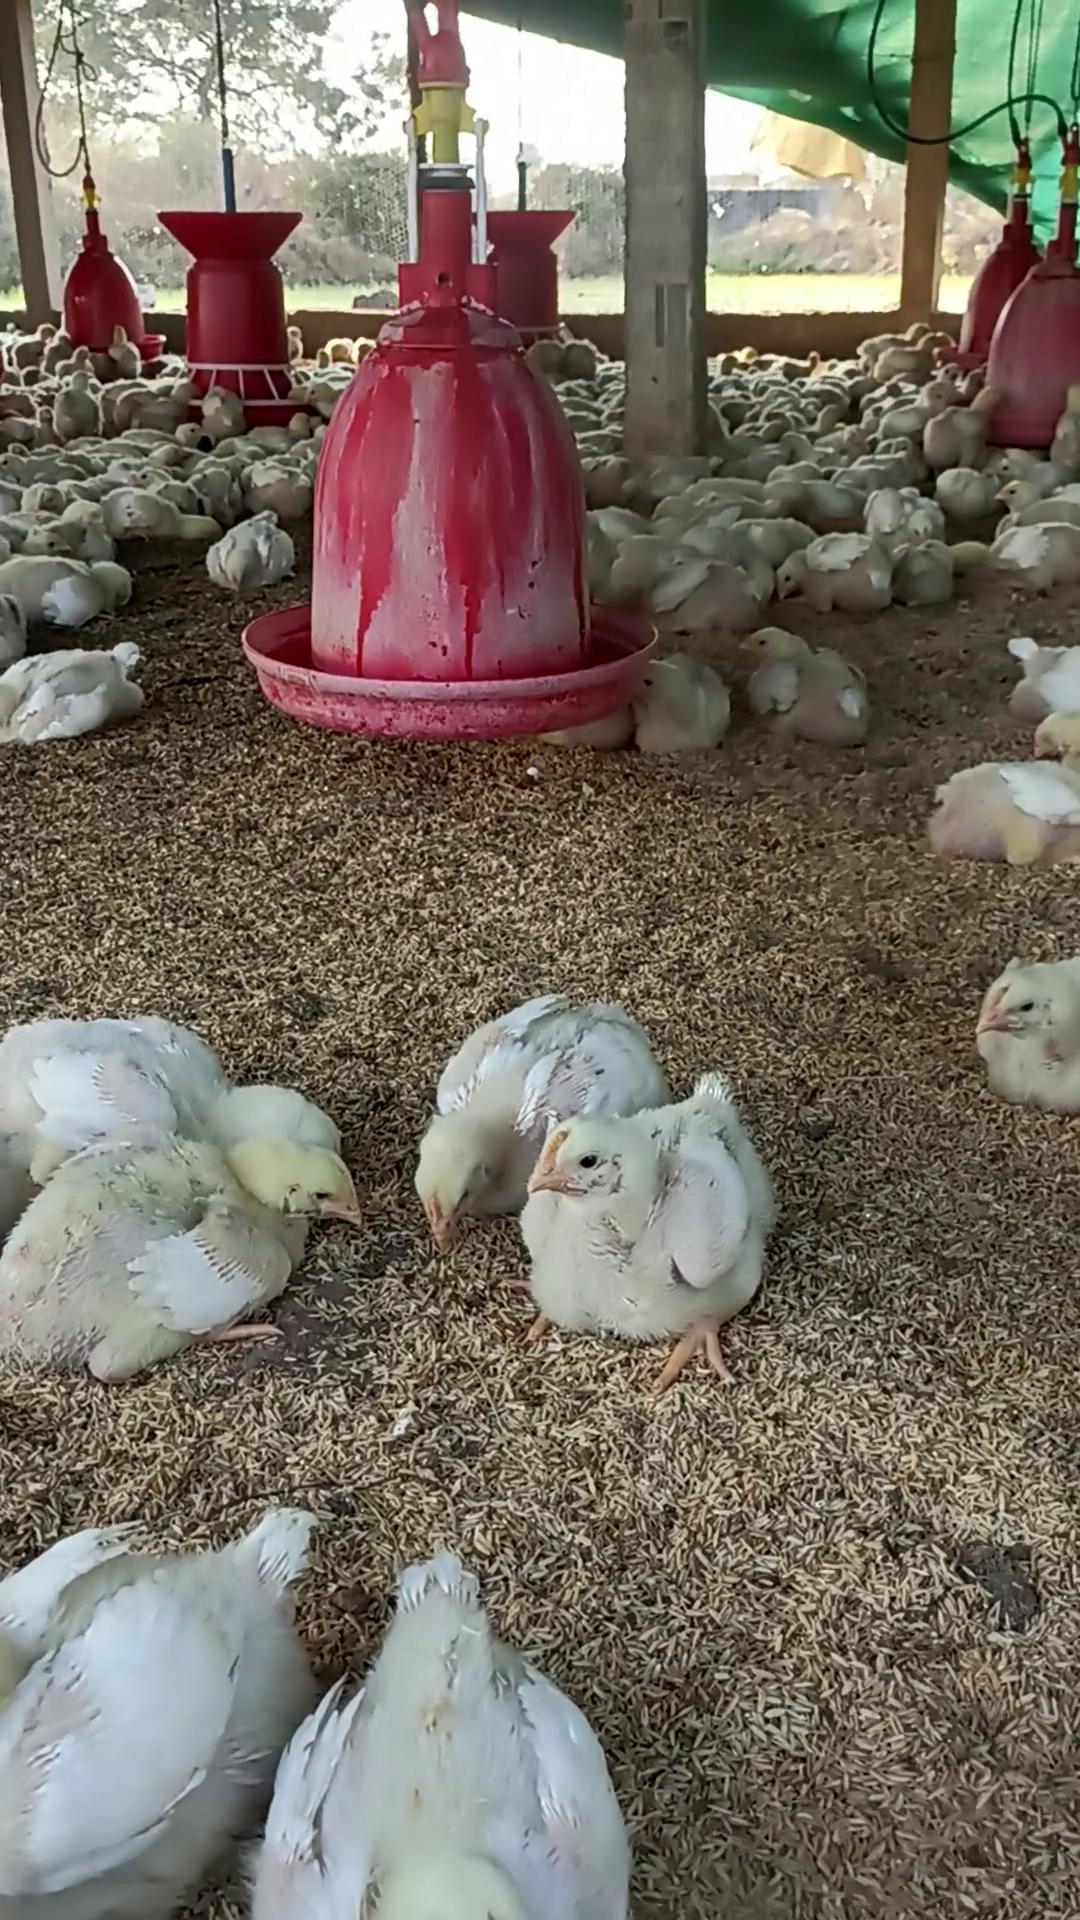Pollos: (0, 1117, 367, 1385), (524, 1064, 781, 1352), (404, 1015, 526, 1242), (737, 615, 881, 753), (0, 640, 153, 769), (969, 951, 1080, 1126), (4, 551, 136, 620), (996, 477, 1080, 582), (769, 535, 890, 607), (206, 505, 291, 599), (895, 535, 963, 604)
